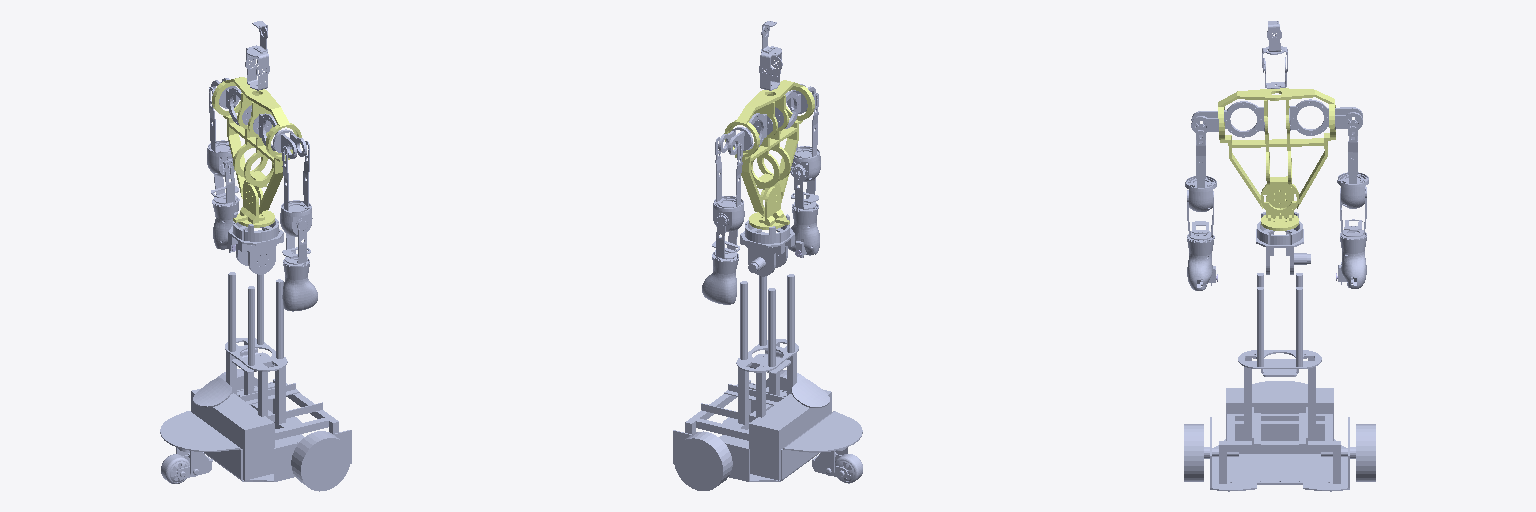
--- What the picture shows (computed from the rendered views, not written in the file) ---
The picture shows the robot from 3 angles, left to right: view 1: azimuth 30°, elevation 25°; view 2: azimuth 150°, elevation 25°; view 3: azimuth 270°, elevation 25°; orthographic projection.
Model humanoid_urdf with 20 links and 19 joints (16 revolute, 2 continuous, 1 fixed), rooted at base_footprint, posed every joint at zero.
Visible links, largest first — view 1: base_link, upperbody_link, r_wheel_link, r_wrist_link, r_hand_link, l_wrist_link, r_shoulder_link, r_elbow_link, r_arm_link, l_elbow_link, l_hand_link, neckud_link (+1 smaller); view 2: base_link, upperbody_link, l_wheel_link, l_wrist_link, r_wrist_link, l_hand_link, l_shoulder_link, l_elbow_link, r_elbow_link, r_hand_link, l_arm_link, r_arm_link (+1 smaller); view 3: base_link, upperbody_link, l_wheel_link, r_wheel_link, l_wrist_link, r_wrist_link, l_hand_link, r_hand_link, l_shoulder_link, r_shoulder_link, l_arm_link, r_arm_link.
Link boxes in pixels (bbox=[...]): base_link: bbox=[160, 212, 351, 483]; upperbody_link: bbox=[212, 77, 301, 227]; r_wheel_link: bbox=[291, 431, 350, 491]; r_wrist_link: bbox=[282, 257, 317, 311]; r_hand_link: bbox=[253, 113, 306, 158]; l_wrist_link: bbox=[212, 196, 247, 252]; r_shoulder_link: bbox=[282, 141, 309, 212]; r_elbow_link: bbox=[282, 220, 310, 264]; r_arm_link: bbox=[280, 200, 312, 236]; l_elbow_link: bbox=[211, 161, 238, 203]; l_hand_link: bbox=[211, 78, 251, 125]; neckud_link: bbox=[246, 27, 268, 76]; base_link: bbox=[673, 214, 862, 483]; upperbody_link: bbox=[724, 80, 814, 229]; l_wheel_link: bbox=[674, 431, 732, 490]; l_wrist_link: bbox=[702, 251, 738, 304]; r_wrist_link: bbox=[788, 202, 819, 257]; l_hand_link: bbox=[718, 113, 772, 154]; l_shoulder_link: bbox=[715, 137, 742, 208]; l_elbow_link: bbox=[712, 215, 739, 258]; r_elbow_link: bbox=[791, 166, 818, 209]; r_hand_link: bbox=[775, 84, 815, 128]; l_arm_link: bbox=[713, 196, 744, 231]; r_arm_link: bbox=[790, 146, 820, 181]; base_link: bbox=[1210, 212, 1349, 491]; upperbody_link: bbox=[1218, 88, 1335, 230]; l_wheel_link: bbox=[1321, 424, 1375, 481]; r_wheel_link: bbox=[1184, 424, 1238, 481]; l_wrist_link: bbox=[1338, 231, 1366, 288]; r_wrist_link: bbox=[1187, 234, 1215, 290]; l_hand_link: bbox=[1289, 99, 1362, 135]; r_hand_link: bbox=[1191, 101, 1264, 137]; l_shoulder_link: bbox=[1340, 117, 1366, 184]; r_shoulder_link: bbox=[1188, 121, 1214, 187]; l_arm_link: bbox=[1337, 172, 1368, 208]; r_arm_link: bbox=[1185, 176, 1216, 211].
Bounding box of the posed robot: 0.4779 × 0.492 × 1.27 m (x, y, z).
20 mesh visuals loaded from 20 distinct referenced files (20 binary STL).

The robot description file, URDF, robot "humanoid_urdf":
<?xml version="1.0" encoding="utf-8" ?>
<!-- This URDF was automatically created by SolidWorks to URDF Exporter! Originally created by Stephen Brawner ([email redacted]) 
     Commit Version: 1.6.0-4-g7f85cfe  Build Version: 1.6.7995.38578
     For more information, please see http://wiki.ros.org/sw_urdf_exporter -->
<robot name="humanoid_urdf">
    <link name="base_footprint">
        <inertial>
            <origin xyz="5.55111512312578E-17 -1.69586567011493E-14 0.015" rpy="0 0 0" />
            <mass value="9.42477796076938E-05" />
            <inertia ixx="7.09214541547896E-09" ixy="1.01610171333826E-56" ixz="-2.73196242009684E-42" iyy="7.09214541547896E-09" iyz="2.5490393388945E-23" izz="4.71238898038469E-11" />
        </inertial>
        <visual>
            <origin xyz="0 0 0" rpy="0 0 0" />
            <geometry>
                <mesh filename="package://humanoid_urdf/meshes/base_footprint.STL" />
            </geometry>
            <material name="">
                <color rgba="0.792156862745098 0.819607843137255 0.933333333333333 1" />
            </material>
        </visual>
        <collision>
            <origin xyz="0 0 0" rpy="0 0 0" />
            <geometry>
                <mesh filename="package://humanoid_urdf/meshes/base_footprint.STL" />
            </geometry>
        </collision>
    </link>
    <link name="base_link">
        <inertial>
            <origin xyz="-0.058865253150675 0.000241148718194667 0.150453571569457" rpy="0 0 0" />
            <mass value="12.1588012059866" />
            <inertia ixx="0.147612795586361" ixy="2.51122441902028E-05" ixz="0.00785651591125418" iyy="0.120849568755044" iyz="-2.9930071595418E-05" izz="0.192821475125935" />
        </inertial>
        <visual>
            <origin xyz="0 0 0" rpy="0 0 0" />
            <geometry>
                <mesh filename="package://humanoid_urdf/meshes/base_link.STL" />
            </geometry>
            <material name="">
                <color rgba="0.792156862745098 0.819607843137255 0.933333333333333 1" />
            </material>
        </visual>
        <collision>
            <origin xyz="0 0 0" rpy="0 0 0" />
            <geometry>
                <mesh filename="package://humanoid_urdf/meshes/base_link.STL" />
            </geometry>
        </collision>
    </link>
    <joint name="base_joint" type="fixed">
        <origin xyz="-0.04271 -0.0034541 0.025" rpy="0 0 0" />
        <parent link="base_footprint" />
        <child link="base_link" />
        <axis xyz="0 0 0" />
    </joint>
    <link name="l_wheel_link">
        <inertial>
            <origin xyz="2.4980018054066E-16 -0.0274508966695133 -5.55111512312578E-17" rpy="0 0 0" />
            <mass value="0.919701249338412" />
            <inertia ixx="0.00158993491700959" ixy="-9.39276228515603E-18" ixz="-5.43095663313807E-35" iyy="0.00248773886508438" iyz="-1.07793356890755E-19" izz="0.00158993491700959" />
        </inertial>
        <visual>
            <origin xyz="0 0 0" rpy="0 0 0" />
            <geometry>
                <mesh filename="package://humanoid_urdf/meshes/l_wheel_link.STL" />
            </geometry>
            <material name="">
                <color rgba="0.792156862745098 0.819607843137255 0.933333333333333 1" />
            </material>
        </visual>
        <collision>
            <origin xyz="0 0 0" rpy="0 0 0" />
            <geometry>
                <mesh filename="package://humanoid_urdf/meshes/l_wheel_link.STL" />
            </geometry>
        </collision>
    </link>
    <joint name="l_wheel_joint" type="continuous">
        <origin xyz="0.031201 0.246 0.05" rpy="0 0 0" />
        <parent link="base_link" />
        <child link="l_wheel_link" />
        <axis xyz="0 -1 0" />
    </joint>
    <link name="r_wheel_link">
        <inertial>
            <origin xyz="-8.32667268468867E-17 0.0274508966695132 0" rpy="0 0 0" />
            <mass value="0.919701249338412" />
            <inertia ixx="0.00158993491700959" ixy="-3.13107128495046E-18" ixz="-6.07179821485445E-36" iyy="0.00248773886508438" iyz="1.08922734153761E-19" izz="0.00158993491700959" />
        </inertial>
        <visual>
            <origin xyz="0 0 0" rpy="0 0 0" />
            <geometry>
                <mesh filename="package://humanoid_urdf/meshes/r_wheel_link.STL" />
            </geometry>
            <material name="">
                <color rgba="0.792156862745098 0.819607843137255 0.933333333333333 1" />
            </material>
        </visual>
        <collision>
            <origin xyz="0 0 0" rpy="0 0 0" />
            <geometry>
                <mesh filename="package://humanoid_urdf/meshes/r_wheel_link.STL" />
            </geometry>
        </collision>
    </link>
    <joint name="r_wheel_joint" type="continuous">
        <origin xyz="0.031201 -0.246 0.05" rpy="0 0 0" />
        <parent link="base_link" />
        <child link="r_wheel_link" />
        <axis xyz="0 1 0" />
    </joint>
    <link name="upperbody_link">
        <inertial>
            <origin xyz="0.00205228690641193 0.000148315761711149 -0.389725268325384" rpy="0 0 0" />
            <mass value="6.91174684158711" />
            <inertia ixx="0.102081185389345" ixy="-4.78400980549201E-05" ixz="0.00492042043623691" iyy="0.0944223334790517" iyz="-7.13439219989285E-05" izz="0.137429752556884" />
        </inertial>
        <visual>
            <origin xyz="0 0 0" rpy="0 0 0" />
            <geometry>
                <mesh filename="package://humanoid_urdf/meshes/upperbody_link.STL" />
            </geometry>
            <material name="">
                <color rgba="0.952941176470588 0.996078431372549 0.694117647058824 1" />
            </material>
        </visual>
        <collision>
            <origin xyz="0 0 0" rpy="0 0 0" />
            <geometry>
                <mesh filename="package://humanoid_urdf/meshes/upperbody_link.STL" />
            </geometry>
        </collision>
    </link>
    <joint name="upperbody_joint" type="revolute">
        <origin xyz="-0.032127 -4.5465E-05 0.679" rpy="0 0 0" />
        <parent link="base_link" />
        <child link="upperbody_link" />
        <axis xyz="0 0 -1" />
        <limit lower="-1.57" upper="1.57" effort="1000" velocity="1.23" />
    </joint>
    <link name="neckro_link">
        <inertial>
            <origin xyz="-0.000121367298027281 -0.00158510811656354 0.0509124920917279" rpy="0 0 0" />
            <mass value="0.0145537829788612" />
            <inertia ixx="1.54328391418493E-05" ixy="2.35853333895656E-07" ixz="-2.1766694803039E-08" iyy="9.16061544027707E-06" iyz="-3.96565382962998E-08" izz="9.46822466540881E-06" />
        </inertial>
        <visual>
            <origin xyz="0 0 0" rpy="0 0 0" />
            <geometry>
                <mesh filename="package://humanoid_urdf/meshes/neckro_link.STL" />
            </geometry>
            <material name="">
                <color rgba="0.792156862745098 0.819607843137255 0.933333333333333 1" />
            </material>
        </visual>
        <collision>
            <origin xyz="0 0 0" rpy="0 0 0" />
            <geometry>
                <mesh filename="package://humanoid_urdf/meshes/neckro_link.STL" />
            </geometry>
        </collision>
    </link>
    <joint name="neckro_joint" type="revolute">
        <origin xyz="-0.0065473 -0.0092427 0.35185" rpy="0 0 0" />
        <parent link="upperbody_link" />
        <child link="neckro_link" />
        <axis xyz="0.00032553 0.031879 -0.99949" />
        <limit lower="-1.57" upper="1.57" effort="1000" velocity="1.23" />
    </joint>
    <link name="neckud_link">
        <inertial>
            <origin xyz="0.00434369727451472 -0.0291134473329629 0.0387323990429149" rpy="0 0 0" />
            <mass value="0.0234428419773425" />
            <inertia ixx="2.08983970705523E-05" ixy="3.51373719883267E-07" ixz="-1.54496617472419E-07" iyy="1.10836250918229E-05" iyz="-1.10185631620626E-07" izz="1.43528432112155E-05" />
        </inertial>
        <visual>
            <origin xyz="0 0 0" rpy="0 0 0" />
            <geometry>
                <mesh filename="package://humanoid_urdf/meshes/neckud_link.STL" />
            </geometry>
            <material name="">
                <color rgba="0.792156862745098 0.819607843137255 0.933333333333333 1" />
            </material>
        </visual>
        <collision>
            <origin xyz="0 0 0" rpy="0 0 0" />
            <geometry>
                <mesh filename="package://humanoid_urdf/meshes/neckud_link.STL" />
            </geometry>
        </collision>
    </link>
    <joint name="neckud_joint" type="revolute">
        <origin xyz="-0.0010133 0.025259 0.085849" rpy="0 0 0" />
        <parent link="neckro_link" />
        <child link="neckud_link" />
        <axis xyz="0.035202 -0.99887 -0.031848" />
        <limit lower="-1.57" upper="1.57" effort="1000" velocity="1.23" />
    </joint>
    <link name="necktilt_link">
        <inertial>
            <origin xyz="-0.00512154695561659 -0.00106174027475656 0.0150795043233884" rpy="0 0 0" />
            <mass value="0.00551601758227205" />
            <inertia ixx="1.28129484531447E-06" ixy="-2.51802723932326E-08" ixz="3.9492574431568E-07" iyy="1.33923395267231E-06" iyz="4.20023117302787E-08" izz="8.65254766960153E-07" />
        </inertial>
        <visual>
            <origin xyz="0 0 0" rpy="0 0 0" />
            <geometry>
                <mesh filename="package://humanoid_urdf/meshes/necktilt_link.STL" />
            </geometry>
            <material name="">
                <color rgba="0.792156862745098 0.819607843137255 0.933333333333333 1" />
            </material>
        </visual>
        <collision>
            <origin xyz="0 0 0" rpy="0 0 0" />
            <geometry>
                <mesh filename="package://humanoid_urdf/meshes/necktilt_link.STL" />
            </geometry>
        </collision>
    </link>
    <joint name="necktilt_joint" type="revolute">
        <origin xyz="0.019117 -0.030395 0.095269" rpy="0 0 0" />
        <parent link="neckud_link" />
        <child link="necktilt_link" />
        <axis xyz="0.99894 0.034219 0.030901" />
        <limit lower="-1.57" upper="1.57" effort="1000" velocity="1.23" />
    </joint>
    <link name="l_hand_link">
        <inertial>
            <origin xyz="-0.00138410719108586 -0.0342648249321449 -0.00110207689214903" rpy="0 0 0" />
            <mass value="0.114916853451242" />
            <inertia ixx="0.000370956714110063" ixy="6.68904931400419E-07" ixz="3.05984244772836E-07" iyy="6.69941590125266E-05" iyz="-8.63205601571652E-06" izz="0.000338282138326251" />
        </inertial>
        <visual>
            <origin xyz="0 0 0" rpy="0 0 0" />
            <geometry>
                <mesh filename="package://humanoid_urdf/meshes/l_hand_link.STL" />
            </geometry>
            <material name="">
                <color rgba="0.792156862745098 0.819607843137255 0.933333333333333 1" />
            </material>
        </visual>
        <collision>
            <origin xyz="0 0 0" rpy="0 0 0" />
            <geometry>
                <mesh filename="package://humanoid_urdf/meshes/l_hand_link.STL" />
            </geometry>
        </collision>
    </link>
    <joint name="l_hand_joint" type="revolute">
        <origin xyz="-0.0049943 0.14284 0.28867" rpy="0 0 0" />
        <parent link="upperbody_link" />
        <child link="l_hand_link" />
        <axis xyz="0.010206 0.99944 0.03188" />
        <limit lower="-3.14" upper="0.0" effort="1000" velocity="1.23" />
    </joint>
    <link name="l_shoulder_link">
        <inertial>
            <origin xyz="-0.0176001712302496 0.000243563765863875 -0.101444167301855" rpy="0 0 0" />
            <mass value="0.0280221823539444" />
            <inertia ixx="6.06463887970406E-05" ixy="-4.08992216915223E-09" ixz="4.69031854982275E-07" iyy="6.00558337478981E-05" iyz="-8.46815163881734E-08" izz="5.0593135976451E-06" />
        </inertial>
        <visual>
            <origin xyz="0 0 0" rpy="0 0 0" />
            <geometry>
                <mesh filename="package://humanoid_urdf/meshes/l_shoulder_link.STL" />
            </geometry>
            <material name="">
                <color rgba="0.792156862745098 0.819607843137255 0.933333333333333 1" />
            </material>
        </visual>
        <collision>
            <origin xyz="0 0 0" rpy="0 0 0" />
            <geometry>
                <mesh filename="package://humanoid_urdf/meshes/l_shoulder_link.STL" />
            </geometry>
        </collision>
    </link>
    <joint name="l_shoulder_joint" type="revolute">
        <origin xyz="0.027011 0.045696 0.0016909" rpy="0 0 0" />
        <parent link="l_hand_link" />
        <child link="l_shoulder_link" />
        <axis xyz="0.99991 -0.01048 0.0084524" />
        <limit lower="0.0" upper="3.14" effort="1000" velocity="1.23" />
    </joint>
    <link name="l_arm_link">
        <inertial>
            <origin xyz="0.000264681581807952 -0.000728532853130293 -0.0284583269002137" rpy="0 0 0" />
            <mass value="0.0708345944879514" />
            <inertia ixx="5.5263757611317E-05" ixy="9.36450033146291E-07" ixz="1.49083830294407E-07" iyy="8.66714264937862E-05" iyz="4.62936190682027E-06" izz="5.83572424914588E-05" />
        </inertial>
        <visual>
            <origin xyz="0 0 0" rpy="0 0 0" />
            <geometry>
                <mesh filename="package://humanoid_urdf/meshes/l_arm_link.STL" />
            </geometry>
            <material name="">
                <color rgba="0.792156862745098 0.819607843137255 0.933333333333333 1" />
            </material>
        </visual>
        <collision>
            <origin xyz="0 0 0" rpy="0 0 0" />
            <geometry>
                <mesh filename="package://humanoid_urdf/meshes/l_arm_link.STL" />
            </geometry>
        </collision>
    </link>
    <joint name="l_arm_joint" type="revolute">
        <origin xyz="-0.01712 0.0010968 -0.17299" rpy="0 0 0" />
        <parent link="l_shoulder_link" />
        <child link="l_arm_link" />
        <axis xyz="0.0084367 -0.001539 -0.99996" />
        <limit lower="-1.57" upper="1.57" effort="1000" velocity="1.23" />
    </joint>
    <link name="l_elbow_link">
        <inertial>
            <origin xyz="0.00492788059856938 -0.0298309686433103 -0.0667963789782932" rpy="0 0 0" />
            <mass value="0.0343679873488541" />
            <inertia ixx="3.06909582860722E-05" ixy="9.10541344424622E-08" ixz="1.58259647271887E-06" iyy="3.36131015862915E-05" iyz="-1.62629207852342E-07" izz="8.73568738242493E-06" />
        </inertial>
        <visual>
            <origin xyz="0 0 0" rpy="0 0 0" />
            <geometry>
                <mesh filename="package://humanoid_urdf/meshes/l_elbow_link.STL" />
            </geometry>
            <material name="">
                <color rgba="0.792156862745098 0.819607843137255 0.933333333333333 1" />
            </material>
        </visual>
        <collision>
            <origin xyz="0 0 0" rpy="0 0 0" />
            <geometry>
                <mesh filename="package://humanoid_urdf/meshes/l_elbow_link.STL" />
            </geometry>
        </collision>
    </link>
    <joint name="l_elbow_joint" type="revolute">
        <origin xyz="0.0012808 0.030764 -0.035038" rpy="0 0 0" />
        <parent link="l_arm_link" />
        <child link="l_elbow_link" />
        <axis xyz="0.028314 0.9996 -0.0012995" />
        <limit lower="-1.57" upper="1.57" effort="1000" velocity="1.23" />
    </joint>
    <link name="l_wrist_link">
        <inertial>
            <origin xyz="0.00672143408702428 -0.00656380744402507 -0.0709778769046243" rpy="0 0 0" />
            <mass value="0.1295209726278" />
            <inertia ixx="0.000178990475644927" ixy="-8.81723689975516E-07" ixz="1.90585847808358E-05" iyy="0.000221575454468605" iyz="3.95079342482515E-06" izz="8.17093773393247E-05" />
        </inertial>
        <visual>
            <origin xyz="0 0 0" rpy="0 0 0" />
            <geometry>
                <mesh filename="package://humanoid_urdf/meshes/l_wrist_link.STL" />
            </geometry>
            <material name="">
                <color rgba="0.792156862745098 0.819607843137255 0.933333333333333 1" />
            </material>
        </visual>
        <collision>
            <origin xyz="0 0 0" rpy="0 0 0" />
            <geometry>
                <mesh filename="package://humanoid_urdf/meshes/l_wrist_link.STL" />
            </geometry>
        </collision>
    </link>
    <joint name="l_wrist_joint" type="revolute">
        <origin xyz="0.0078635 -0.030119 -0.12165" rpy="0 0 0" />
        <parent link="l_elbow_link" />
        <child link="l_wrist_link" />
        <axis xyz="0.071648 -0.0033262 -0.99742" />
        <limit lower="-1.57" upper="1.57" effort="1000" velocity="1.23" />
    </joint>
    <link name="l_finger_link">
        <inertial>
            <origin xyz="0 0.00132165156655861 0" rpy="0 0 0" />
            <mass value="0.00061746790316696" />
            <inertia ixx="1.54611618322015E-08" ixy="-7.33320585549857E-26" ixz="1.14934124377714E-26" iyy="2.97170461169939E-08" iyz="1.57320113387214E-22" izz="1.54611618322015E-08" />
        </inertial>
        <visual>
            <origin xyz="0 0 0" rpy="0 0 0" />
            <geometry>
                <mesh filename="package://humanoid_urdf/meshes/l_finger_link.STL" />
            </geometry>
            <material name="">
                <color rgba="0.823529411764706 0.823529411764706 1 1" />
            </material>
        </visual>
        <collision>
            <origin xyz="0 0 0" rpy="0 0 0" />
            <geometry>
                <mesh filename="package://humanoid_urdf/meshes/l_finger_link.STL" />
            </geometry>
        </collision>
    </link>
    <joint name="l_finger_joint" type="revolute">
        <origin xyz="0.0034603 -0.046206 -0.11289" rpy="0 0 0" />
        <parent link="l_wrist_link" />
        <child link="l_finger_link" />
        <axis xyz="0 1 0" />
        <limit lower="-1.57" upper="1.57" effort="1000" velocity="1.23" />
    </joint>
    <link name="r_hand_link">
        <inertial>
            <origin xyz="-0.00068413478461643 0.0342862182648051 0.00109350378033035" rpy="0 0 0" />
            <mass value="0.114916853451242" />
            <inertia ixx="0.000370804780226237" ixy="-6.88292875926268E-06" ixz="-2.14291532701362E-07" iyy="6.71504034972058E-05" iyz="-8.65798419805494E-06" izz="0.000338277827725399" />
        </inertial>
        <visual>
            <origin xyz="0 0 0" rpy="0 0 0" />
            <geometry>
                <mesh filename="package://humanoid_urdf/meshes/r_hand_link.STL" />
            </geometry>
            <material name="">
                <color rgba="0.792156862745098 0.819607843137255 0.933333333333333 1" />
            </material>
        </visual>
        <collision>
            <origin xyz="0 0 0" rpy="0 0 0" />
            <geometry>
                <mesh filename="package://humanoid_urdf/meshes/r_hand_link.STL" />
            </geometry>
        </collision>
    </link>
    <joint name="r_hand_joint" type="revolute">
        <origin xyz="-0.0080561 -0.15699 0.2791" rpy="0 0 0" />
        <parent link="upperbody_link" />
        <child link="r_hand_link" />
        <axis xyz="0.010206 0.99944 0.03188" />
        <limit lower="-3.14" upper="0.0" effort="1000" velocity="1.23" />
    </joint>
    <link name="r_shoulder_link">
        <inertial>
            <origin xyz="-0.0184719917435935 0.000394467340017593 -0.101288569674667" rpy="0 0 0" />
            <mass value="0.0280221823539667" />
            <inertia ixx="6.06503472266041E-05" ixy="-4.64108848630578E-09" ixz="-9.04465633229716E-09" iyy="6.00559614198698E-05" iyz="4.63940471446338E-11" izz="5.05522749622923E-06" />
        </inertial>
        <visual>
            <origin xyz="0 0 0" rpy="0 0 0" />
            <geometry>
                <mesh filename="package://humanoid_urdf/meshes/r_shoulder_link.STL" />
            </geometry>
            <material name="">
                <color rgba="0.792156862745098 0.819607843137255 0.933333333333333 1" />
            </material>
        </visual>
        <collision>
            <origin xyz="0 0 0" rpy="0 0 0" />
            <geometry>
                <mesh filename="package://humanoid_urdf/meshes/r_shoulder_link.STL" />
            </geometry>
        </collision>
    </link>
    <joint name="r_shoulder_joint" type="revolute">
        <origin xyz="0.026073 -0.046245 -0.0014708" rpy="0 0 0" />
        <parent link="r_hand_link" />
        <child link="r_shoulder_link" />
        <axis xyz="0.99995 -0.010206 -0.00016273" />
        <limit lower="-3.14" upper="0.0" effort="1000" velocity="1.23" />
    </joint>
    <link name="r_arm_link">
        <inertial>
            <origin xyz="-4.86184525169964E-05 0.000683742423951958 -0.0284606462373371" rpy="0 0 0" />
            <mass value="0.0708345095187025" />
            <inertia ixx="5.52364393322298E-05" ixy="8.48386215729183E-08" ixz="-4.39983448064579E-08" iyy="8.6687022868429E-05" iyz="-4.66796405182517E-06" izz="5.83687358115144E-05" />
        </inertial>
        <visual>
            <origin xyz="0 0 0" rpy="0 0 0" />
            <geometry>
                <mesh filename="package://humanoid_urdf/meshes/r_arm_link.STL" />
            </geometry>
            <material name="">
                <color rgba="0.792156862745098 0.819607843137255 0.933333333333333 1" />
            </material>
        </visual>
        <collision>
            <origin xyz="0 0 0" rpy="0 0 0" />
            <geometry>
                <mesh filename="package://humanoid_urdf/meshes/r_arm_link.STL" />
            </geometry>
        </collision>
    </link>
    <joint name="r_arm_joint" type="revolute">
        <origin xyz="-0.018415 -0.00097725 -0.17283" rpy="0 0 0" />
        <parent link="r_shoulder_link" />
        <child link="r_arm_link" />
        <axis xyz="0.00016269 0 1" />
        <limit lower="-1.57" upper="1.57" effort="1000" velocity="1.23" />
    </joint>
    <link name="r_elbow_link">
        <inertial>
            <origin xyz="-0.00096270853430383 0.0295927080093579 -0.0670766111767334" rpy="0 0 0" />
            <mass value="0.0343679873488544" />
            <inertia ixx="3.0802219666292E-05" ixy="1.89922125334388E-16" ixz="5.86124310511246E-18" iyy="3.36161769905873E-05" iyz="8.56629044431799E-08" izz="8.62135059790961E-06" />
        </inertial>
        <visual>
            <origin xyz="0 0 0" rpy="0 0 0" />
            <geometry>
                <mesh filename="package://humanoid_urdf/meshes/r_elbow_link.STL" />
            </geometry>
            <material name="">
                <color rgba="0.792156862745098 0.819607843137255 0.933333333333333 1" />
            </material>
        </visual>
        <collision>
            <origin xyz="0 0 0" rpy="0 0 0" />
            <geometry>
                <mesh filename="package://humanoid_urdf/meshes/r_elbow_link.STL" />
            </geometry>
        </collision>
    </link>
    <joint name="r_elbow_joint" type="revolute">
        <origin xyz="-0.00011827 -0.030834 -0.035" rpy="0 0 0" />
        <parent link="r_arm_link" />
        <child link="r_elbow_link" />
        <axis xyz="0 1 0" />
        <limit lower="-1.57" upper="1.57" effort="1000" velocity="1.23" />
    </joint>
    <link name="r_wrist_link">
        <inertial>
            <origin xyz="0.00191340091533826 0.00535746595263272 -0.0740312537478306" rpy="0 0 0" />
            <mass value="0.123130860562075" />
            <inertia ixx="0.000179684772279338" ixy="6.29857952313707E-07" ixz="1.21796341634151E-05" iyy="0.00021730129336006" iyz="-4.38844403024007E-06" izz="7.55303602792132E-05" />
        </inertial>
        <visual>
            <origin xyz="0 0 0" rpy="0 0 0" />
            <geometry>
                <mesh filename="package://humanoid_urdf/meshes/r_wrist_link.STL" />
            </geometry>
            <material name="">
                <color rgba="0.792156862745098 0.819607843137255 0.933333333333333 1" />
            </material>
        </visual>
        <collision>
            <origin xyz="0 0 0" rpy="0 0 0" />
            <geometry>
                <mesh filename="package://humanoid_urdf/meshes/r_wrist_link.STL" />
            </geometry>
        </collision>
    </link>
    <joint name="r_wrist_joint" type="revolute">
        <origin xyz="0 0.029726 -0.122" rpy="0 0 0" />
        <parent link="r_elbow_link" />
        <child link="r_wrist_link" />
        <axis xyz="0 0 1" />
        <limit lower="-1.57" upper="1.57" effort="1000" velocity="1.23" />
    </joint>
    <link name="r_finger_link">
        <inertial>
            <origin xyz="0 -0.00132165156655867 0" rpy="0 0 0" />
            <mass value="0.00061746790316696" />
            <inertia ixx="1.54611618322015E-08" ixy="-2.74695557135579E-25" ixz="-1.19396595542024E-26" iyy="2.97170461169939E-08" iyz="5.22537658880144E-23" izz="1.54611618322015E-08" />
        </inertial>
        <visual>
            <origin xyz="0 0 0" rpy="0 0 0" />
            <geometry>
                <mesh filename="package://humanoid_urdf/meshes/r_finger_link.STL" />
            </geometry>
            <material name="">
                <color rgba="0.823529411764706 0.823529411764706 1 1" />
            </material>
        </visual>
        <collision>
            <origin xyz="0 0 0" rpy="0 0 0" />
            <geometry>
                <mesh filename="package://humanoid_urdf/meshes/r_finger_link.STL" />
            </geometry>
        </collision>
    </link>
    <joint name="r_finger_joint" type="revolute">
        <origin xyz="-0.0032067 0.045279 -0.11233" rpy="0 0 0" />
        <parent link="r_wrist_link" />
        <child link="r_finger_link" />
        <axis xyz="0 1 0" />
        <limit lower="-1.57" upper="1.57" effort="1000" velocity="1.23" />
    </joint>
    <transmission name="trans_l_wheel_joint">
        <type>transmission_interface/SimpleTransmission</type>
        <joint name="l_wheel_joint">
            <hardwareInterface>hardware_interface/EffortJointInterface</hardwareInterface>
        </joint>
        <actuator name="l_wheel_joint_motor">
            <hardwareInterface>hardware_interface/EffortJointInterface</hardwareInterface>
            <mechanicalReduction>1</mechanicalReduction>
        </actuator>
    </transmission>
    <transmission name="trans_r_wheel_joint">
        <type>transmission_interface/SimpleTransmission</type>
        <joint name="r_wheel_joint">
            <hardwareInterface>hardware_interface/EffortJointInterface</hardwareInterface>
        </joint>
        <actuator name="r_wheel_joint_motor">
            <hardwareInterface>hardware_interface/EffortJointInterface</hardwareInterface>
            <mechanicalReduction>1</mechanicalReduction>
        </actuator>
    </transmission>
    <transmission name="trans_upperbody_joint">
        <type>transmission_interface/SimpleTransmission</type>
        <joint name="upperbody_joint">
            <hardwareInterface>hardware_interface/EffortJointInterface</hardwareInterface>
        </joint>
        <actuator name="upperbody_joint_motor">
            <hardwareInterface>hardware_interface/EffortJointInterface</hardwareInterface>
            <mechanicalReduction>1</mechanicalReduction>
        </actuator>
    </transmission>
    <transmission name="trans_neckro_joint">
        <type>transmission_interface/SimpleTransmission</type>
        <joint name="neckro_joint">
            <hardwareInterface>hardware_interface/EffortJointInterface</hardwareInterface>
        </joint>
        <actuator name="neckro_joint_motor">
            <hardwareInterface>hardware_interface/EffortJointInterface</hardwareInterface>
            <mechanicalReduction>1</mechanicalReduction>
        </actuator>
    </transmission>
    <transmission name="trans_neckud_joint">
        <type>transmission_interface/SimpleTransmission</type>
        <joint name="neckud_joint">
            <hardwareInterface>hardware_interface/EffortJointInterface</hardwareInterface>
        </joint>
        <actuator name="neckud_joint_motor">
            <hardwareInterface>hardware_interface/EffortJointInterface</hardwareInterface>
            <mechanicalReduction>1</mechanicalReduction>
        </actuator>
    </transmission>
    <transmission name="trans_necktilt_joint">
        <type>transmission_interface/SimpleTransmission</type>
        <joint name="necktilt_joint">
            <hardwareInterface>hardware_interface/EffortJointInterface</hardwareInterface>
        </joint>
        <actuator name="necktilt_joint_motor">
            <hardwareInterface>hardware_interface/EffortJointInterface</hardwareInterface>
            <mechanicalReduction>1</mechanicalReduction>
        </actuator>
    </transmission>
    <transmission name="trans_l_hand_joint">
        <type>transmission_interface/SimpleTransmission</type>
        <joint name="l_hand_joint">
            <hardwareInterface>hardware_interface/EffortJointInterface</hardwareInterface>
        </joint>
        <actuator name="l_hand_joint_motor">
            <hardwareInterface>hardware_interface/EffortJointInterface</hardwareInterface>
            <mechanicalReduction>1</mechanicalReduction>
        </actuator>
    </transmission>
    <transmission name="trans_l_shoulder_joint">
        <type>transmission_interface/SimpleTransmission</type>
        <joint name="l_shoulder_joint">
            <hardwareInterface>hardware_interface/EffortJointInterface</hardwareInterface>
        </joint>
        <actuator name="l_shoulder_joint_motor">
            <hardwareInterface>hardware_interface/EffortJointInterface</hardwareInterface>
            <mechanicalReduction>1</mechanicalReduction>
        </actuator>
    </transmission>
    <transmission name="trans_l_arm_joint">
        <type>transmission_interface/SimpleTransmission</type>
        <joint name="l_arm_joint">
            <hardwareInterface>hardware_interface/EffortJointInterface</hardwareInterface>
        </joint>
        <actuator name="l_arm_joint_motor">
            <hardwareInterface>hardware_interface/EffortJointInterface</hardwareInterface>
            <mechanicalReduction>1</mechanicalReduction>
        </actuator>
    </transmission>
    <transmission name="trans_l_elbow_joint">
        <type>transmission_interface/SimpleTransmission</type>
        <joint name="l_elbow_joint">
            <hardwareInterface>hardware_interface/EffortJointInterface</hardwareInterface>
        </joint>
        <actuator name="l_elbow_joint_motor">
            <hardwareInterface>hardware_interface/EffortJointInterface</hardwareInterface>
            <mechanicalReduction>1</mechanicalReduction>
        </actuator>
    </transmission>
    <transmission name="trans_l_wrist_joint">
        <type>transmission_interface/SimpleTransmission</type>
        <joint name="l_wrist_joint">
            <hardwareInterface>hardware_interface/EffortJointInterface</hardwareInterface>
        </joint>
        <actuator name="l_wrist_joint_motor">
            <hardwareInterface>hardware_interface/EffortJointInterface</hardwareInterface>
            <mechanicalReduction>1</mechanicalReduction>
        </actuator>
    </transmission>
    <transmission name="trans_l_finger_joint">
        <type>transmission_interface/SimpleTransmission</type>
        <joint name="l_finger_joint">
            <hardwareInterface>hardware_interface/EffortJointInterface</hardwareInterface>
        </joint>
        <actuator name="l_finger_joint_motor">
            <hardwareInterface>hardware_interface/EffortJointInterface</hardwareInterface>
            <mechanicalReduction>1</mechanicalReduction>
        </actuator>
    </transmission>
    <transmission name="trans_r_hand_joint">
        <type>transmission_interface/SimpleTransmission</type>
        <joint name="r_hand_joint">
            <hardwareInterface>hardware_interface/EffortJointInterface</hardwareInterface>
        </joint>
        <actuator name="r_hand_joint_motor">
            <hardwareInterface>hardware_interface/EffortJointInterface</hardwareInterface>
            <mechanicalReduction>1</mechanicalReduction>
        </actuator>
    </transmission>
    <transmission name="trans_r_shoulder_joint">
        <type>transmission_interface/SimpleTransmission</type>
        <joint name="r_shoulder_joint">
            <hardwareInterface>hardware_interface/EffortJointInterface</hardwareInterface>
        </joint>
        <actuator name="r_shoulder_joint_motor">
            <hardwareInterface>hardware_interface/EffortJointInterface</hardwareInterface>
            <mechanicalReduction>1</mechanicalReduction>
        </actuator>
    </transmission>
    <transmission name="trans_r_arm_joint">
        <type>transmission_interface/SimpleTransmission</type>
        <joint name="r_arm_joint">
            <hardwareInterface>hardware_interface/EffortJointInterface</hardwareInterface>
        </joint>
        <actuator name="r_arm_joint_motor">
            <hardwareInterface>hardware_interface/EffortJointInterface</hardwareInterface>
            <mechanicalReduction>1</mechanicalReduction>
        </actuator>
    </transmission>
    <transmission name="trans_r_elbow_joint">
        <type>transmission_interface/SimpleTransmission</type>
        <joint name="r_elbow_joint">
            <hardwareInterface>hardware_interface/EffortJointInterface</hardwareInterface>
        </joint>
        <actuator name="r_elbow_joint_motor">
            <hardwareInterface>hardware_interface/EffortJointInterface</hardwareInterface>
            <mechanicalReduction>1</mechanicalReduction>
        </actuator>
    </transmission>
    <transmission name="trans_r_wrist_joint">
        <type>transmission_interface/SimpleTransmission</type>
        <joint name="r_wrist_joint">
            <hardwareInterface>hardware_interface/EffortJointInterface</hardwareInterface>
        </joint>
        <actuator name="r_wrist_joint_motor">
            <hardwareInterface>hardware_interface/EffortJointInterface</hardwareInterface>
            <mechanicalReduction>1</mechanicalReduction>
        </actuator>
    </transmission>
    <transmission name="trans_r_finger_joint">
        <type>transmission_interface/SimpleTransmission</type>
        <joint name="r_finger_joint">
            <hardwareInterface>hardware_interface/EffortJointInterface</hardwareInterface>
        </joint>
        <actuator name="r_finger_joint_motor">
            <hardwareInterface>hardware_interface/EffortJointInterface</hardwareInterface>
            <mechanicalReduction>1</mechanicalReduction>
        </actuator>
    </transmission>
    <gazebo>
        <plugin name="gazebo_ros_control">
            <robotNamespace>/</robotNamespace>
        </plugin>
    </gazebo>
</robot>
